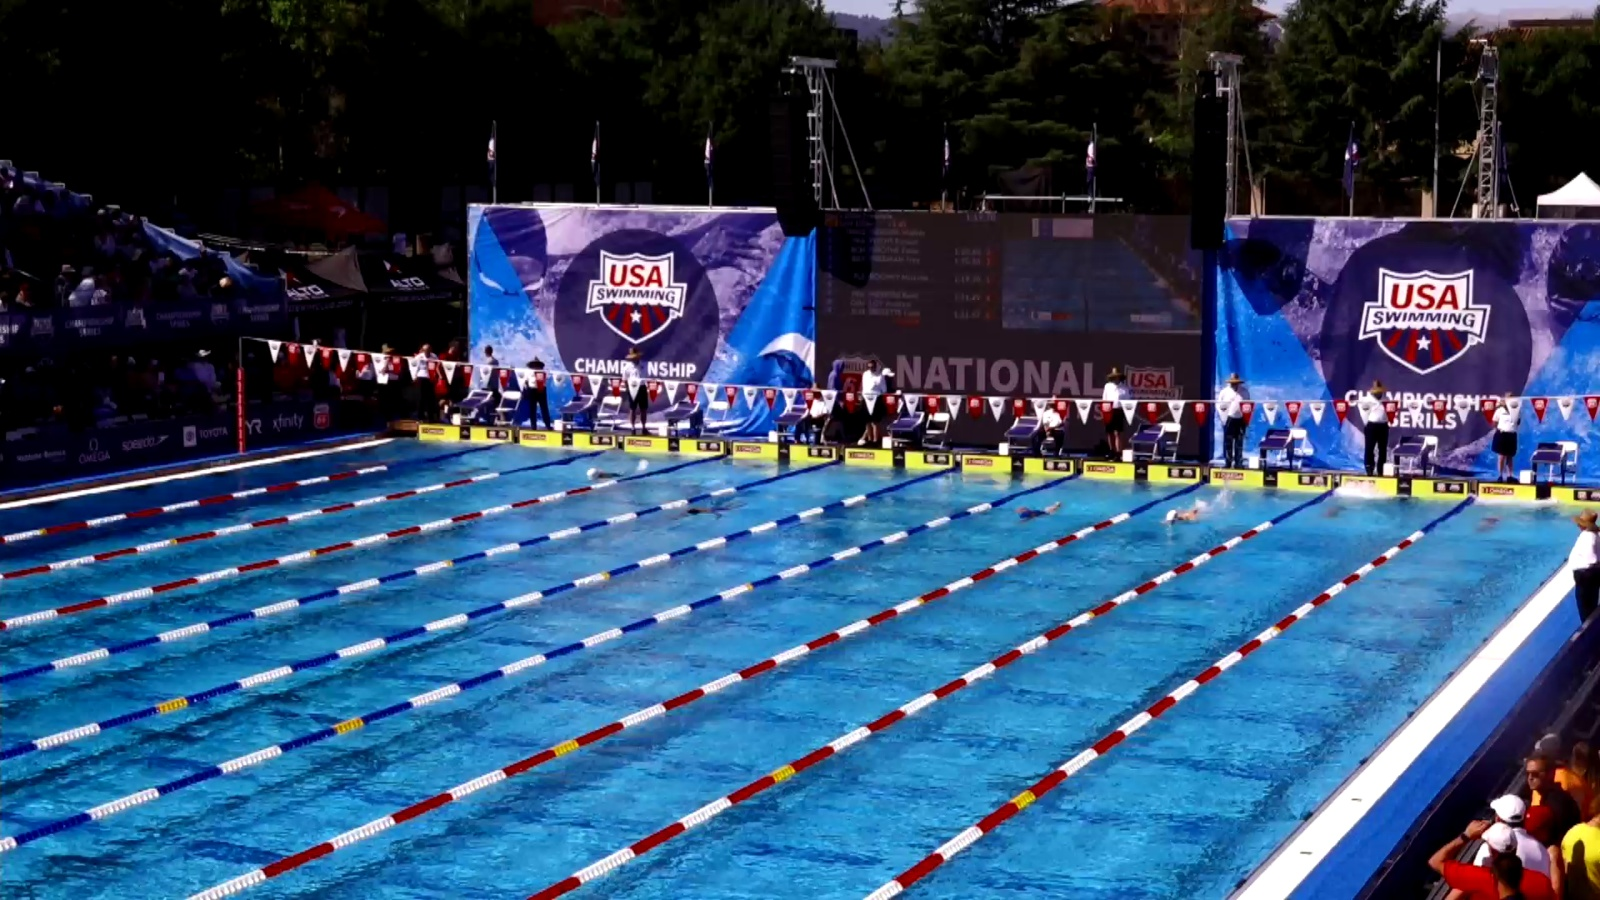swimmerw: (1164, 493, 1231, 527), (584, 458, 646, 487), (1471, 504, 1516, 541), (1014, 495, 1064, 526), (684, 499, 747, 519), (1322, 495, 1357, 526), (448, 463, 490, 482), (338, 455, 385, 473)
